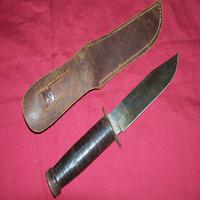knife: (41, 50, 182, 197)
